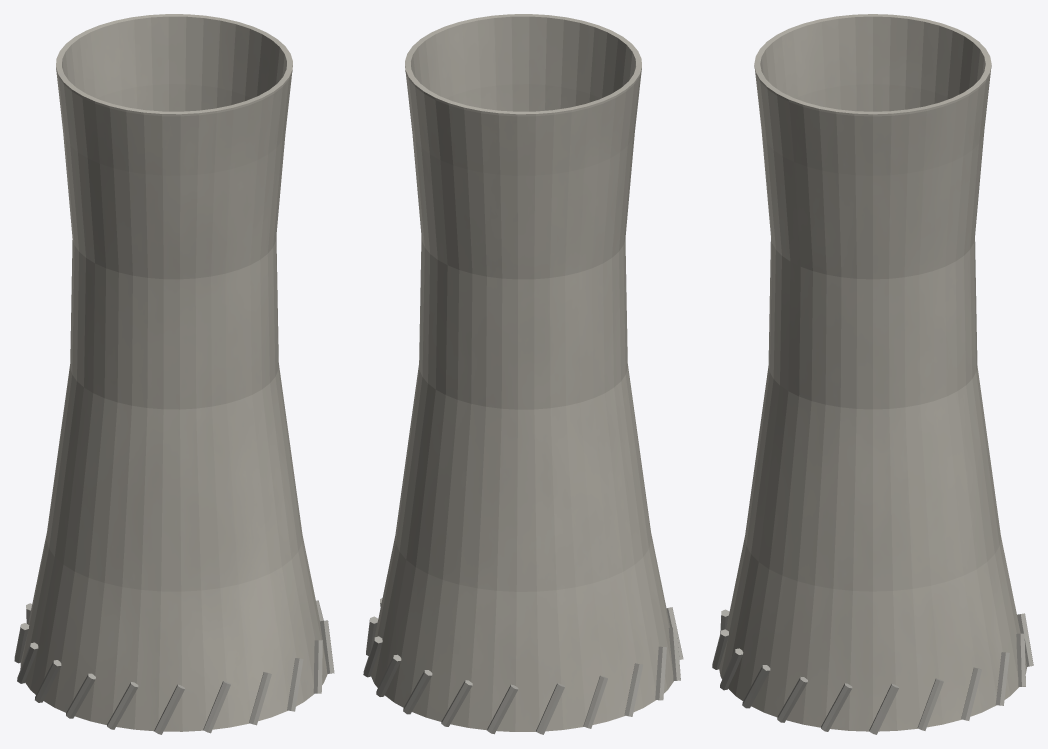
File: pv_chladici_vez.glb
3 views of the same model, side by side, from view 1: azimuth 30°, elevation 25°; view 2: azimuth 150°, elevation 25°; view 3: azimuth 270°, elevation 25° (orthographic).
Parts seen in each view (by area): view 1: dum; view 2: dum; view 3: dum.
Part boxes in pixels (x1,y1,x2,y2): dum: [14, 14, 334, 734]; dum: [363, 14, 683, 734]; dum: [712, 14, 1033, 734].
Size of the model in its own units: 13.56 by 28.02 by 13.51.
1 material, 1 textured.
